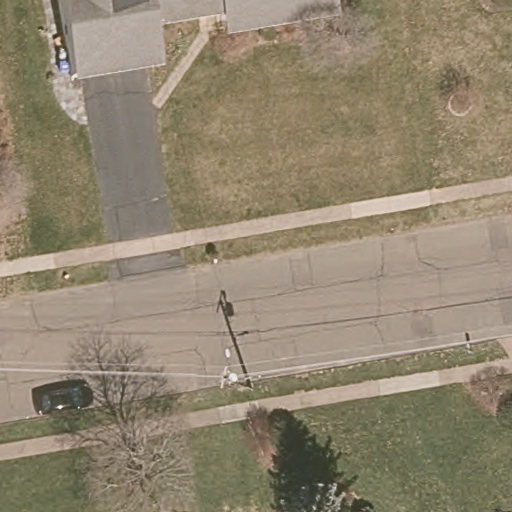DT: (219, 364, 256, 393)
